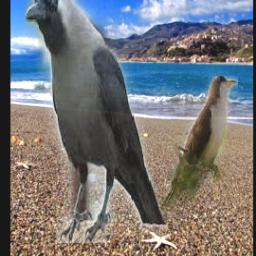Crow: (25, 0, 166, 243)
Cuckoo: (153, 76, 237, 224)
